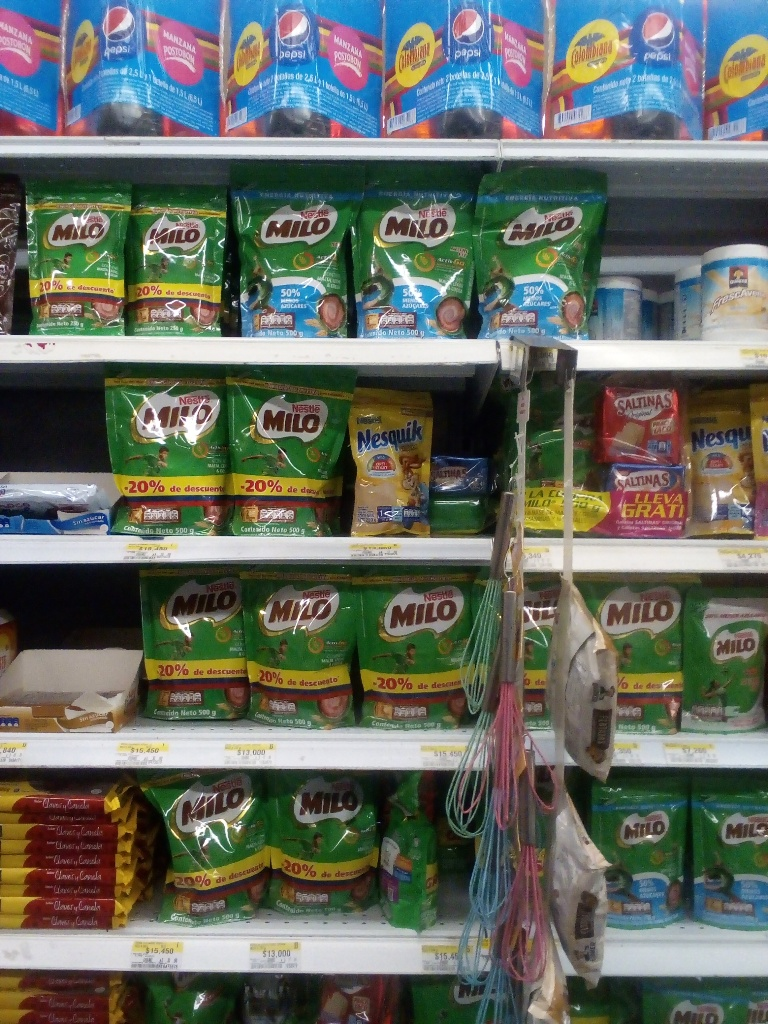COL0170203DYP50000: (108, 359, 229, 541)
COL0170205DYP50000: (229, 164, 359, 338)
COL0170306DYP20000: (353, 388, 432, 535)
